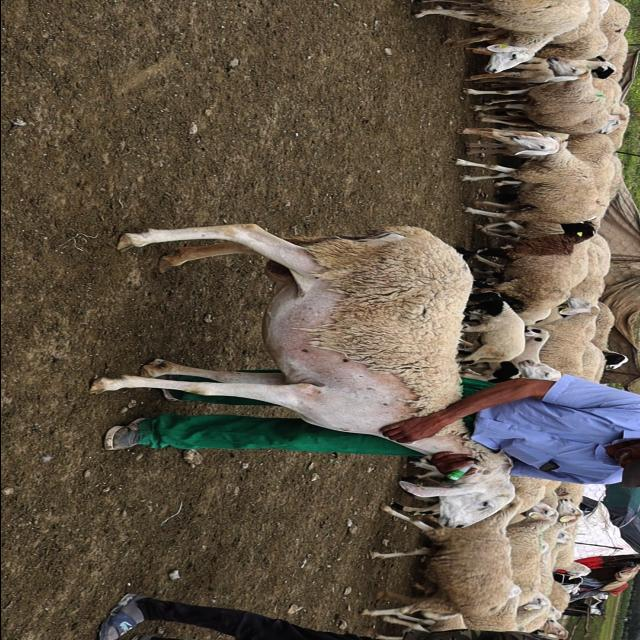Score_2: (90, 224, 472, 438)
